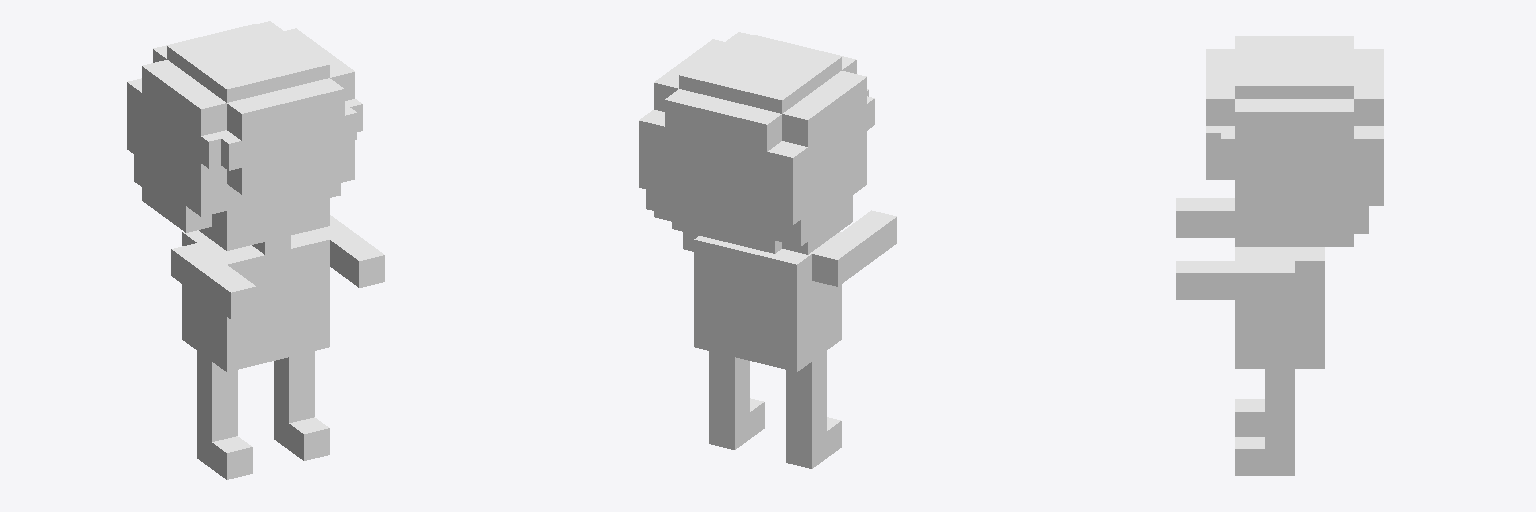
The model's file is Student_2.obj.
The picture shows the model from 3 angles: view 1: azimuth 30°, elevation 25°; view 2: azimuth 150°, elevation 25°; view 3: azimuth 270°, elevation 25°; orthographic projection.
Bounding box in the file's own units: 12 × 29 × 14.